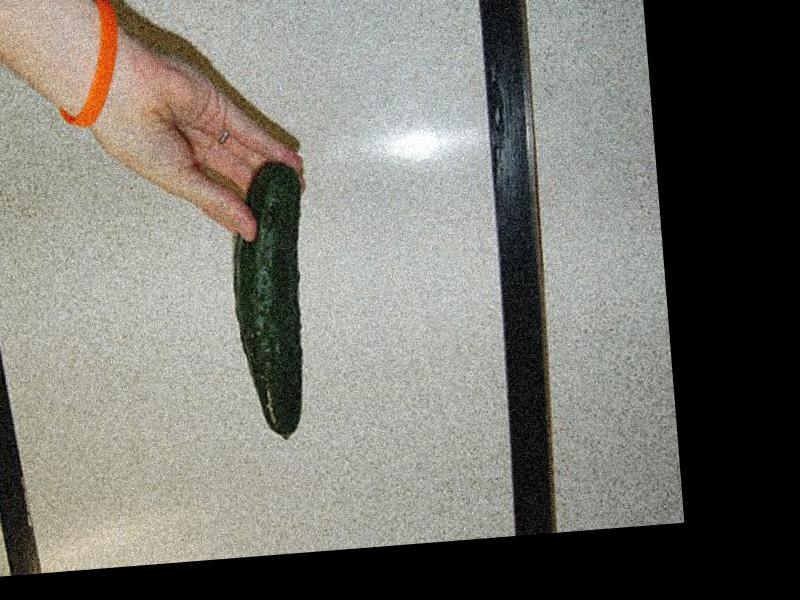Cucumber: (227, 159, 321, 444)
